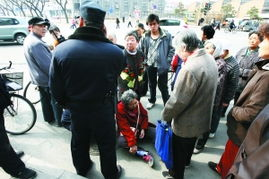10+: (1, 7, 269, 177)
down: (113, 90, 156, 166)
